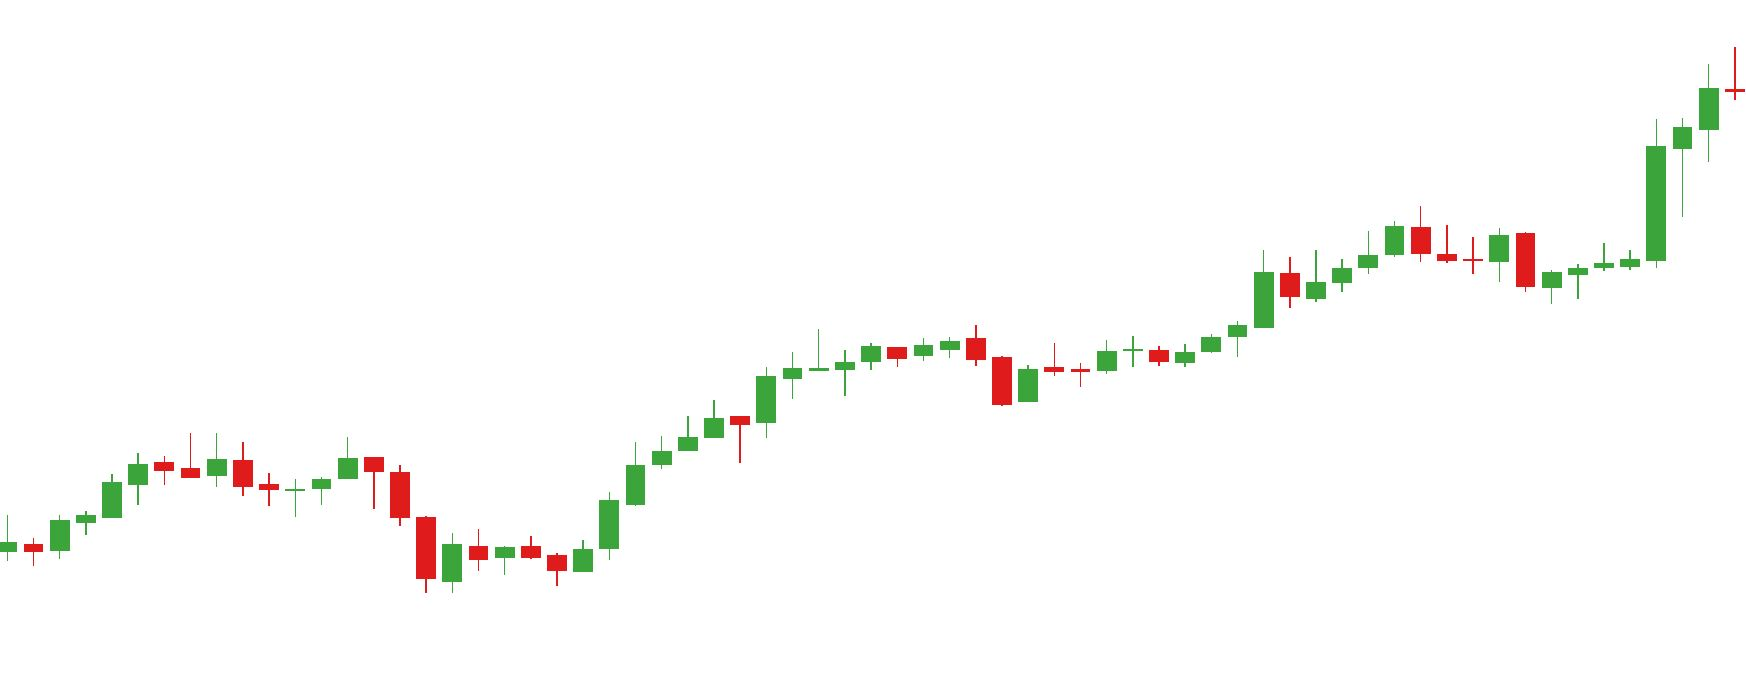buy: (24, 485, 468, 597), (830, 348, 1044, 412)
